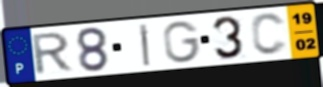3: (210, 14, 246, 62)
8: (75, 25, 110, 73)
C: (249, 12, 290, 58)
G: (161, 20, 202, 65)
I: (138, 23, 152, 68)
R: (31, 30, 76, 77)
